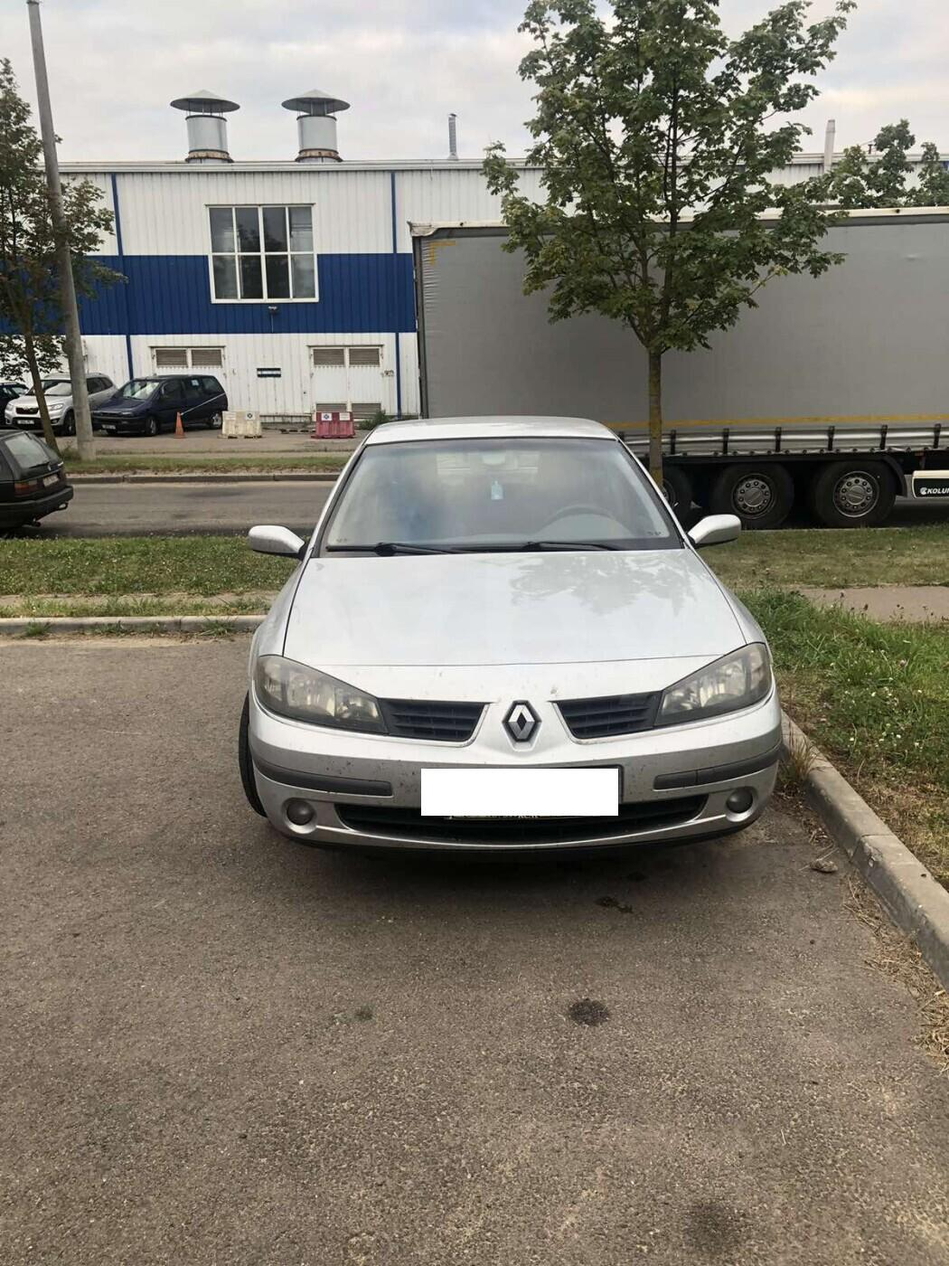Laguna_2005-2007: (235, 407, 795, 868)
